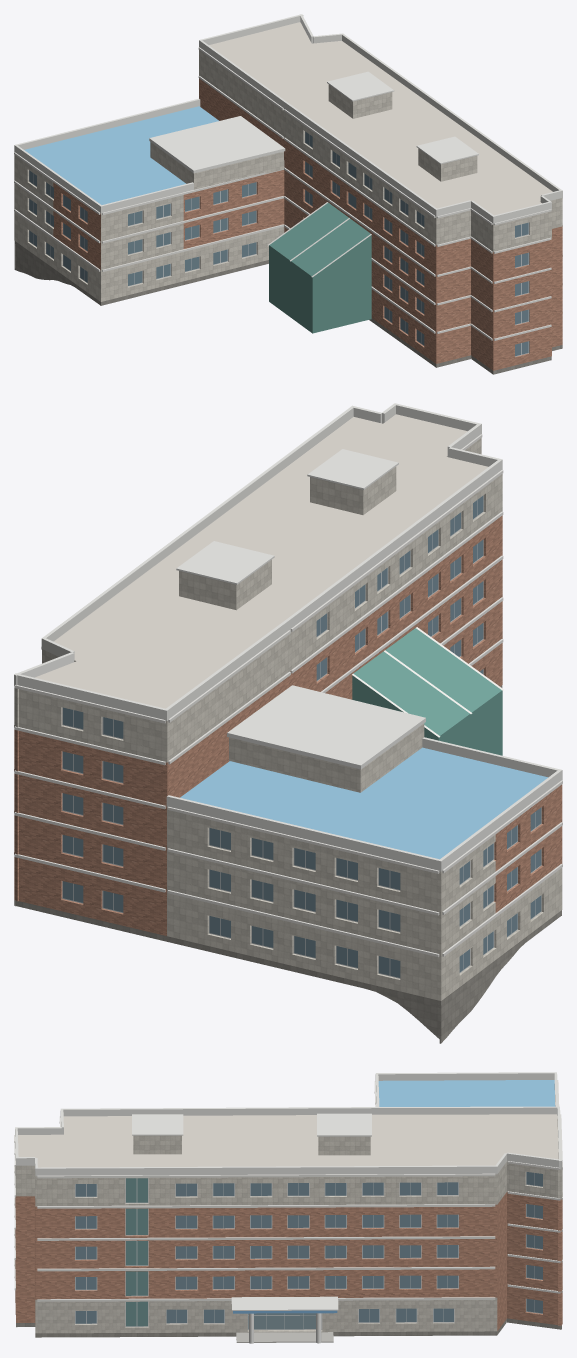
3 views of the same model, one above another, from view 1: azimuth 30°, elevation 25°; view 2: azimuth 150°, elevation 25°; view 3: azimuth 270°, elevation 25° (orthographic). The views are drawn at different scales.
Visible parts, largest first — view 1: susin__brick, susin__topwall, susin__roof, susin__cap, susin__atriumglass, susin__blueroof, susin__trim, susin__glass, susin__frame, susin__plinth, susin__foundation; view 2: susin__topwall, susin__roof, susin__brick, susin__cap, susin__blueroof, susin__glass, susin__trim, susin__atriumglass, susin__foundation, susin__frame, susin__plinth; view 3: susin__brick, susin__roof, susin__cap, susin__topwall, susin__glass, susin__stone, susin__trim, susin__blueroof, susin__frame, susin__curtainglass, susin__plinth, susin__doorglass (+3 smaller).
Part boxes in pixels (<box>): susin__brick: <box>53,78,562,370</box>; susin__topwall: <box>14,50,562,301</box>; susin__roof: <box>209,22,552,215</box>; susin__cap: <box>14,14,562,223</box>; susin__atriumglass: <box>269,202,371,333</box>; susin__blueroof: <box>24,106,218,204</box>; susin__trim: <box>14,47,562,340</box>; susin__glass: <box>29,131,528,356</box>; susin__frame: <box>29,131,529,356</box>; susin__plinth: <box>15,241,562,373</box>; susin__foundation: <box>14,241,562,374</box>; susin__topwall: <box>14,438,562,1000</box>; susin__roof: <box>35,414,488,708</box>; susin__brick: <box>14,515,562,935</box>; susin__cap: <box>14,403,562,871</box>; susin__blueroof: <box>180,747,547,859</box>; susin__glass: <box>63,496,541,977</box>; susin__trim: <box>14,434,562,957</box>; susin__atriumglass: <box>352,628,502,755</box>; susin__foundation: <box>14,686,561,1043</box>; susin__frame: <box>62,495,541,978</box>; susin__plinth: <box>14,685,561,1004</box>; susin__brick: <box>15,1191,562,1330</box>; susin__roof: <box>18,1114,558,1167</box>; susin__cap: <box>15,1072,562,1310</box>; susin__topwall: <box>15,1102,562,1206</box>; susin__glass: <box>75,1172,542,1323</box>; susin__stone: <box>35,1297,497,1333</box>; susin__trim: <box>14,1080,562,1301</box>; susin__blueroof: <box>378,1080,555,1106</box>; susin__frame: <box>75,1171,542,1329</box>; susin__curtainglass: <box>126,1178,147,1326</box>; susin__plinth: <box>16,1318,561,1336</box>; susin__doorglass: <box>248,1313,315,1329</box>.
Bounding box in the file's own units: 43.49 × 24.82 × 58.81.
18 materials, 5 textured.
